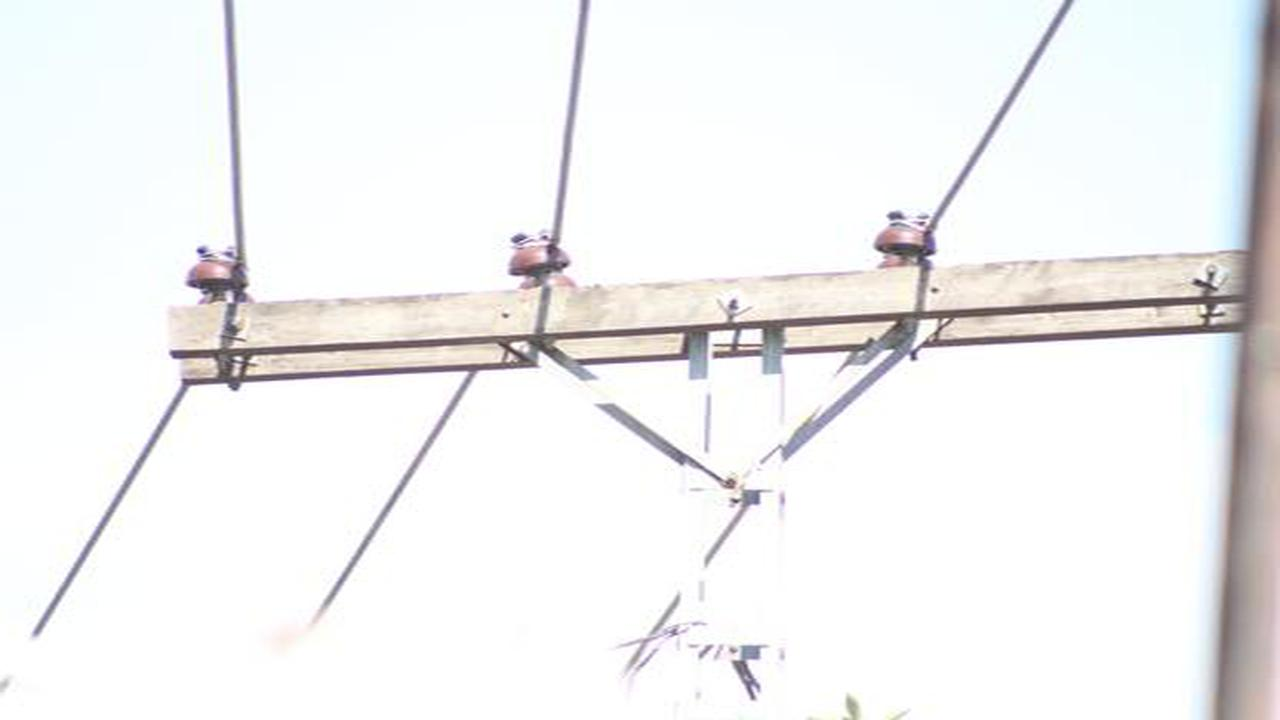insulator_pin: (501, 221, 575, 276), (870, 206, 939, 263), (183, 242, 245, 300)
